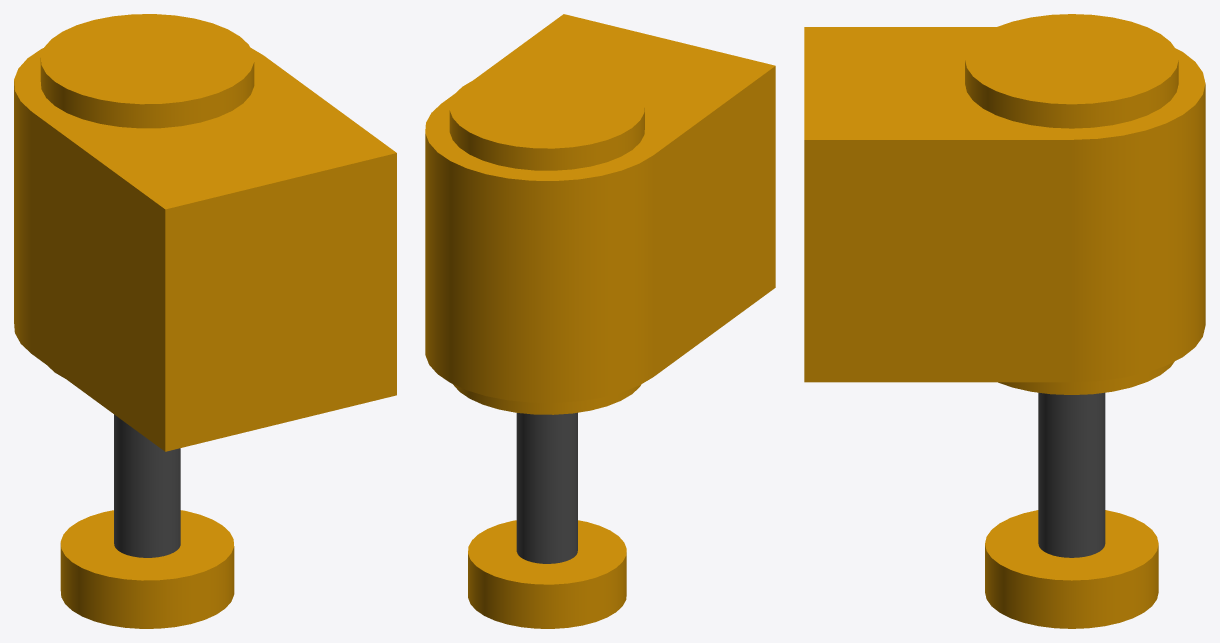
Rendered from PressMachine.fbx.
3 renders of one model, left to right at view 1: azimuth 30°, elevation 25°; view 2: azimuth 150°, elevation 25°; view 3: azimuth 270°, elevation 25°, orthographic. The views are drawn at different scales.
Parts seen in each view (by area): view 1: 실린더, 실린더.001, 실린더.003, 실린더.002; view 2: 실린더, 실린더.001, 실린더.003, 실린더.002; view 3: 실린더, 실린더.001, 실린더.003, 실린더.002.
Part boxes in pixels (bbox=[...]): 실린더: bbox=[14, 48, 396, 451]; 실린더.001: bbox=[40, 14, 254, 377]; 실린더.003: bbox=[60, 510, 234, 628]; 실린더.002: bbox=[114, 414, 180, 557]; 실린더: bbox=[425, 14, 775, 402]; 실린더.001: bbox=[449, 66, 644, 414]; 실린더.003: bbox=[468, 520, 626, 628]; 실린더.002: bbox=[516, 412, 577, 563]; 실린더: bbox=[804, 27, 1205, 382]; 실린더.001: bbox=[965, 14, 1178, 394]; 실린더.003: bbox=[985, 510, 1158, 628]; 실린더.002: bbox=[1038, 392, 1105, 557].
Size of the model in its own units: 200 by 440 by 300.
